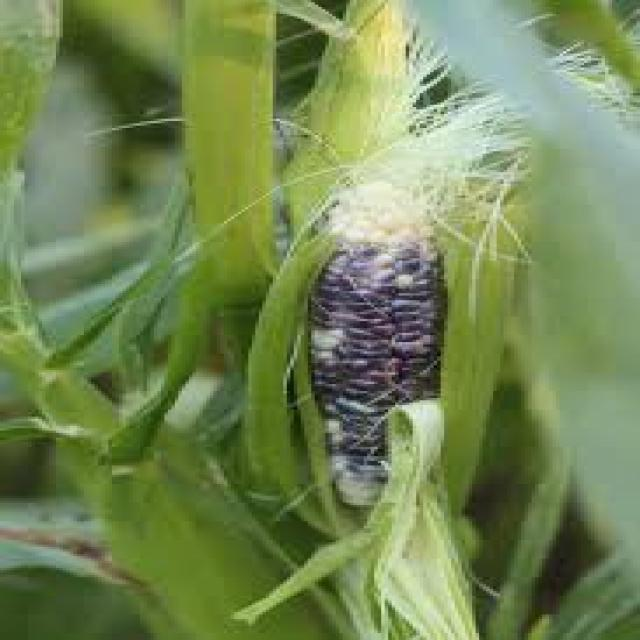discolored corn: (267, 152, 561, 511)
